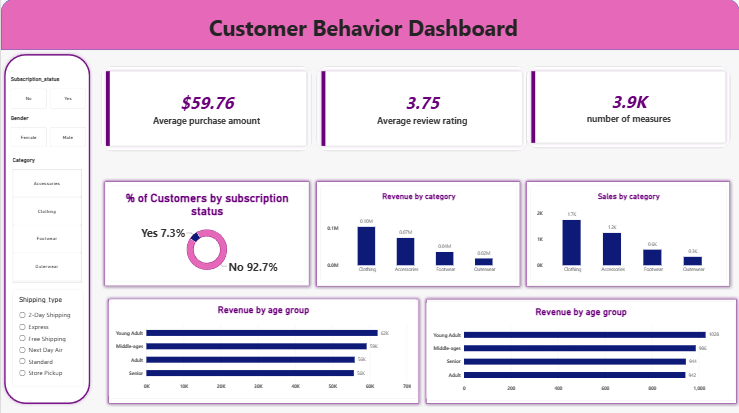

Layout of this report page (visuals, bound fields, positions):
{"tool":"powerbi","page":{"name":"Page 1","canvas":[1920,1080],"ordinal":0},"visuals":[{"type":"cardVisual","fields":{"Data":["public customer.Average purchase amount"]},"box":[257.5,175,547.5,220],"z":0},{"type":"cardVisual","fields":{"Data":["public customer.Average review rating"]},"box":[820,175,547.5,220],"z":1000},{"type":"cardVisual","fields":{"Data":["public customer.number of measures"]},"box":[1365,175,530,212.5],"z":2000},{"type":"shape","box":[0,0,1918.6,132.7],"z":3000},{"type":"textbox","box":[140.8,36.2,1603,119],"z":4000},{"type":"shape","box":[257.5,465,550,290],"z":5000},{"type":"donutChart","title":"% of Customers by subscription status","fields":{"Category":["public customer.subscription_status"],"Y":["Sum(public customer.customer_id)"]},"box":[277.5,485,510,250],"z":6000},{"type":"shape","box":[1355,465,547.6,290.6],"z":7000},{"type":"shape","box":[807.5,465,547.6,290.6],"z":8000},{"type":"clusteredColumnChart","title":"Revenue by category","fields":{"Y":["Sum(public customer.purchase_amount)"],"Category":["public customer.category"]},"box":[827.5,485,510,250],"z":9000},{"type":"clusteredColumnChart","title":"Sales by category","fields":{"Category":["public customer.category"],"Y":["CountNonNull(public customer.customer_id)"]},"box":[1375,485,510,250],"z":10000},{"type":"shape","box":[0,132.5,240,925],"z":11000},{"type":"advancedSlicerVisual","title":"Subscription_status","fields":{"Values":["public customer.subscription_status"]},"box":[22.5,200,197.5,85],"z":12000},{"type":"advancedSlicerVisual","title":"Gender","fields":{"Values":["public customer.gender"]},"box":[25,297.5,197.5,85],"z":13000},{"type":"advancedSlicerVisual","title":"Category","fields":{"Values":["public customer.category"]},"box":[27.5,407.5,192.5,327.5],"z":14000},{"type":"listSlicer","title":"Shipping_type","fields":{"Values":["public customer.shipping_type"]},"box":[27.5,755,185,252.5],"z":15000},{"type":"shape","box":[267.5,767.5,825,290],"z":16000},{"type":"shape","box":[1095,767.5,825,290],"z":17000},{"type":"clusteredBarChart","title":"Revenue by age group ","fields":{"Y":["Sum(public customer.purchase_amount)"],"Category":["public customer.age_group"]},"box":[280,780,802.5,257.5],"z":18000},{"type":"clusteredBarChart","title":"Revenue by age group ","fields":{"Y":["CountNonNull(public customer.customer_id)"],"Category":["public customer.age_group"]},"box":[1105,782.5,802.5,257.5],"z":18001}]}

Visuals, with their boxes in screenshot pixels (x1, y1, x2, y2), scaled from the page's 1920x1080 canvas onto the 739x413 screenshot:
cardVisual - public customer.Average purchase amount: [left=99, top=67, right=310, bottom=151]
cardVisual - public customer.Average review rating: [left=316, top=67, right=526, bottom=151]
cardVisual - public customer.number of measures: [left=525, top=67, right=729, bottom=148]
shape: [left=0, top=0, right=738, bottom=51]
textbox: [left=54, top=14, right=671, bottom=59]
shape: [left=99, top=178, right=311, bottom=289]
"% of Customers by subscription status" donutChart: [left=107, top=185, right=303, bottom=281]
shape: [left=522, top=178, right=732, bottom=289]
shape: [left=311, top=178, right=522, bottom=289]
"Revenue by category" clusteredColumnChart: [left=319, top=185, right=515, bottom=281]
"Sales by category" clusteredColumnChart: [left=529, top=185, right=726, bottom=281]
shape: [left=0, top=51, right=92, bottom=404]
"Subscription_status" advancedSlicerVisual: [left=9, top=76, right=85, bottom=109]
"Gender" advancedSlicerVisual: [left=10, top=114, right=86, bottom=146]
"Category" advancedSlicerVisual: [left=11, top=156, right=85, bottom=281]
"Shipping_type" listSlicer: [left=11, top=289, right=82, bottom=385]
shape: [left=103, top=293, right=420, bottom=404]
shape: [left=421, top=293, right=738, bottom=404]
"Revenue by age group " clusteredBarChart: [left=108, top=298, right=417, bottom=397]
"Revenue by age group " clusteredBarChart: [left=425, top=299, right=734, bottom=398]
